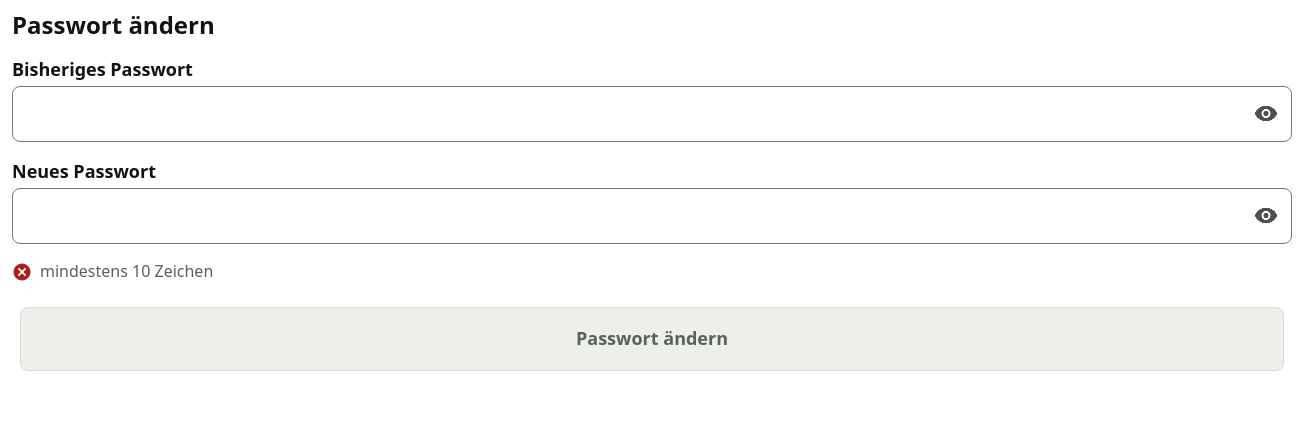
Test: PasswortAendern › Fehler › 400 mit felder: Text am jeweiligen Feld
Type "beispiel-passwort-01" into the password field with test id "passwort-aendern-alt" at (652, 114), box top-left (12, 86), bottom-right (1292, 142)
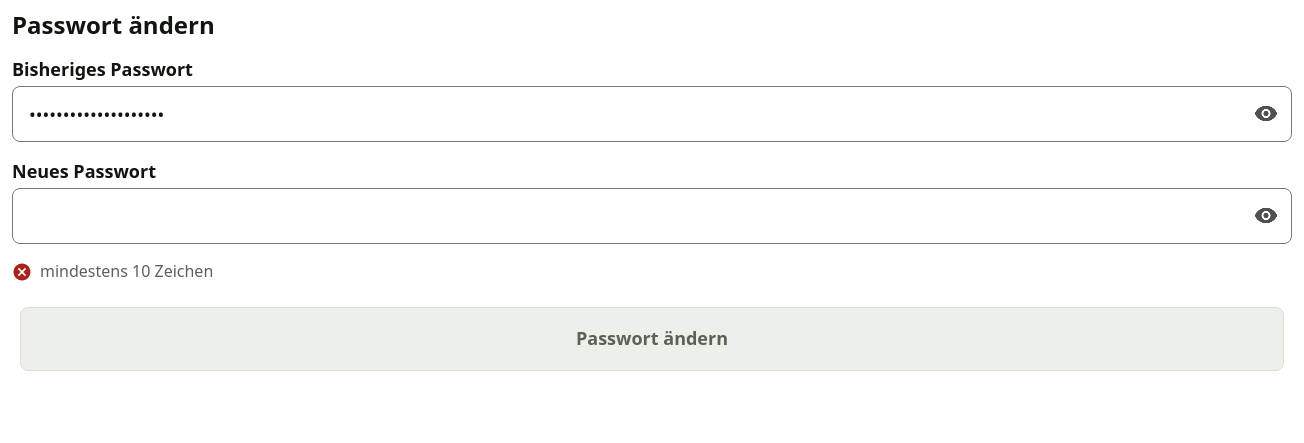
Type "beispiel-passwort-02" into the password field with test id "passwort-aendern-neu" at (652, 216), box top-left (12, 188), bottom-right (1292, 244)
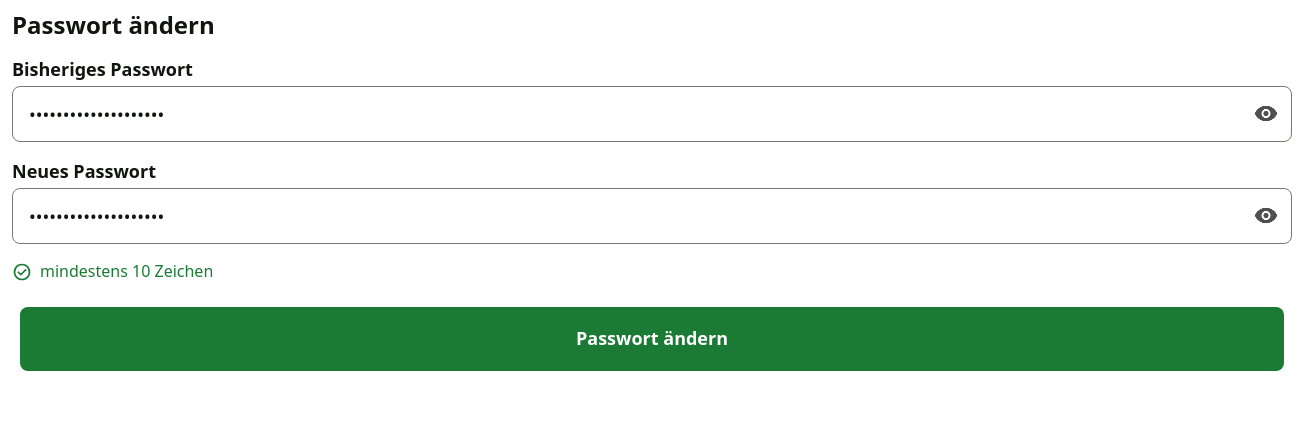
Click the button with test id "passwort-aendern-absenden" at (652, 339), box top-left (20, 307), bottom-right (1284, 371)
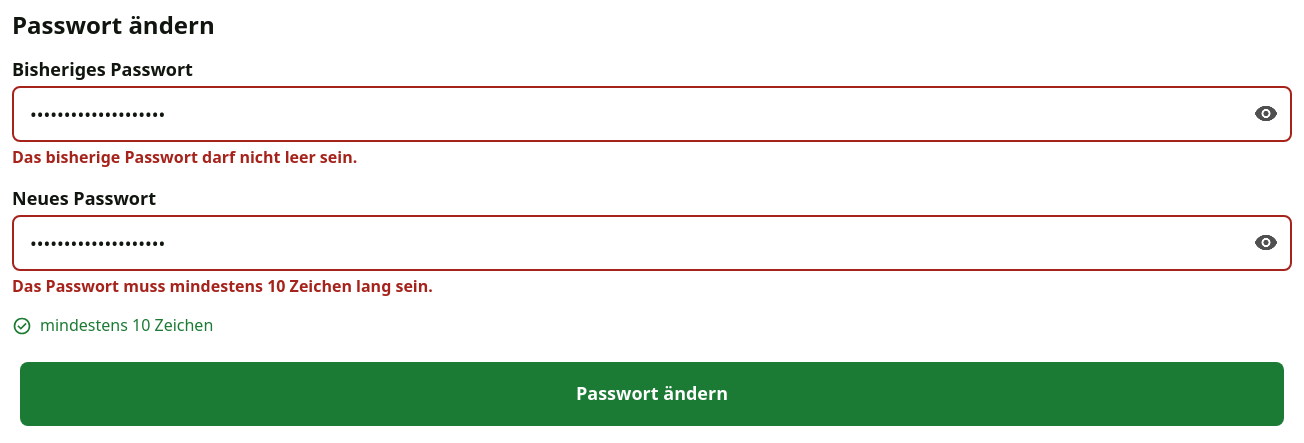
Result: the text with test id "passwort-aendern-alt-fehler" reads "Das bisherige Passwort darf nicht leer sein." at top-left (12, 146), bottom-right (357, 168)
Result: the text with test id "passwort-aendern-neu-fehler" reads "Das Passwort muss mindestens 10 Zeichen lang sein." at top-left (12, 275), bottom-right (433, 297)
